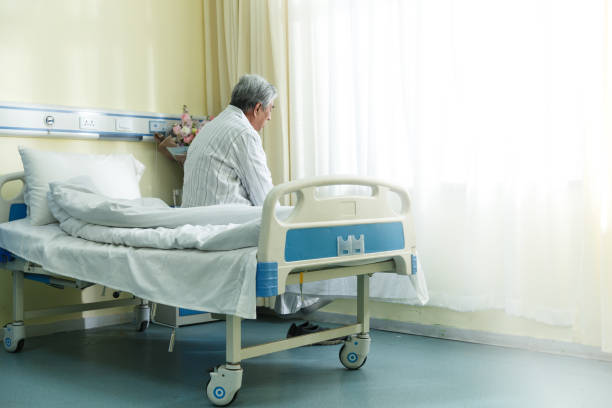foot_board: (255, 176, 418, 295)
hospital_bed: (1, 170, 424, 408)
light_switch: (115, 118, 134, 133)
patient: (179, 75, 283, 207)
